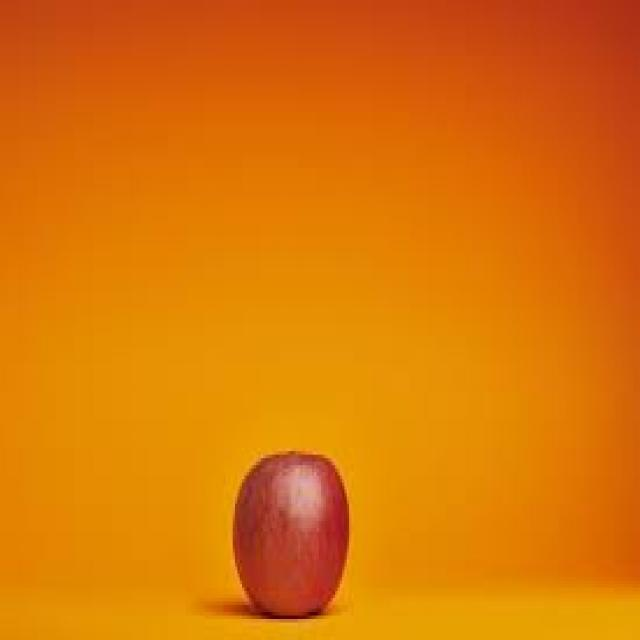Fresh Apple: (215, 443, 363, 615)
